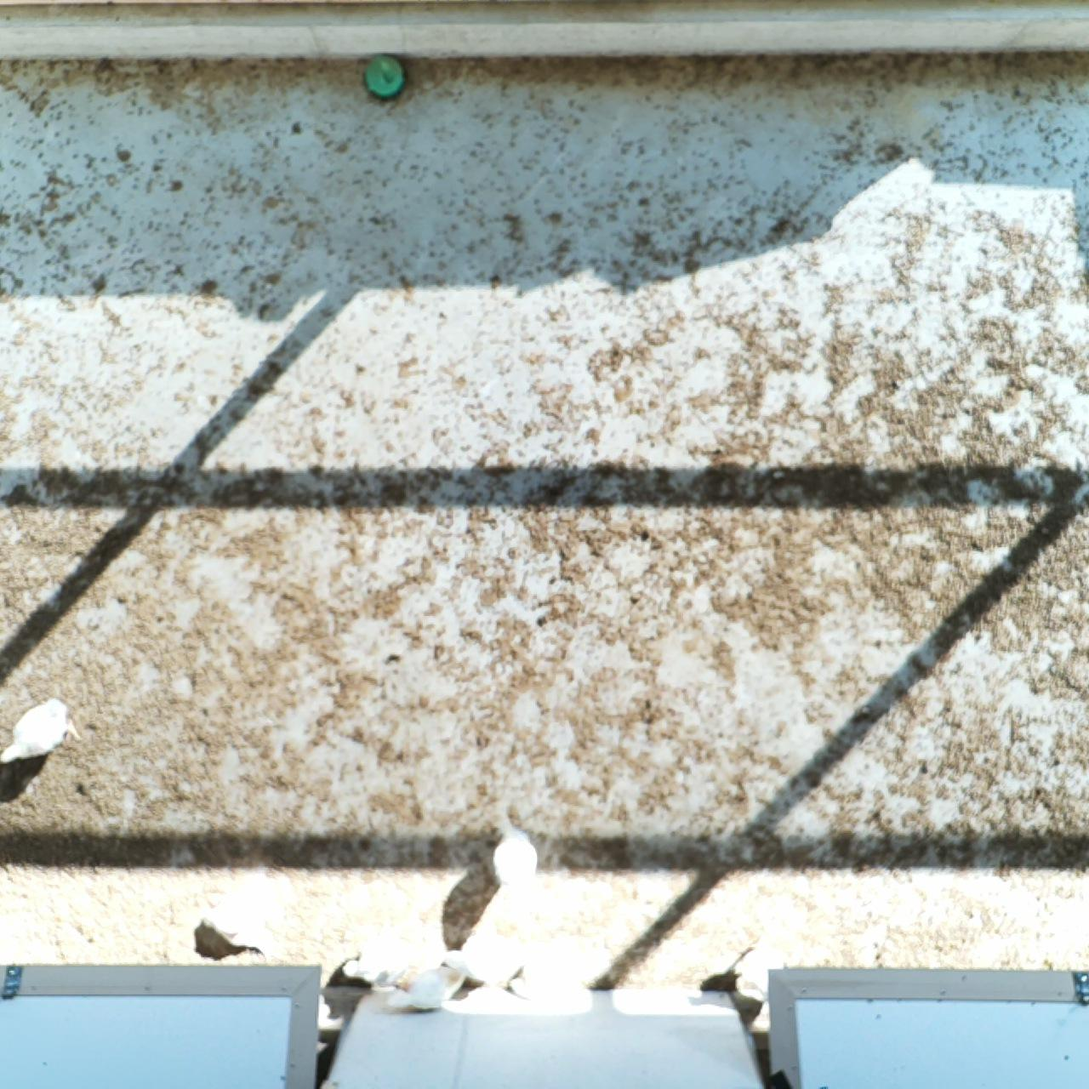chicken: (0, 690, 83, 771), (196, 895, 281, 964), (441, 928, 530, 990), (382, 962, 471, 1014), (483, 828, 542, 905), (730, 928, 791, 1002), (331, 949, 408, 992)
